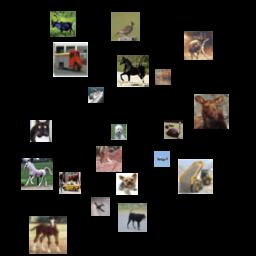airplane: (91, 197, 110, 216), (154, 151, 170, 167)
automobile: (59, 172, 81, 194)
bird: (111, 12, 140, 41), (164, 120, 183, 139)
cat: (30, 120, 52, 142)
deer: (194, 94, 229, 129), (184, 31, 213, 60), (50, 11, 76, 37), (96, 146, 122, 172), (155, 69, 171, 85)
dog: (118, 203, 147, 232), (116, 173, 138, 195), (111, 124, 127, 140)
ship: (88, 87, 104, 103)
truck: (53, 42, 88, 77), (178, 159, 213, 194)
